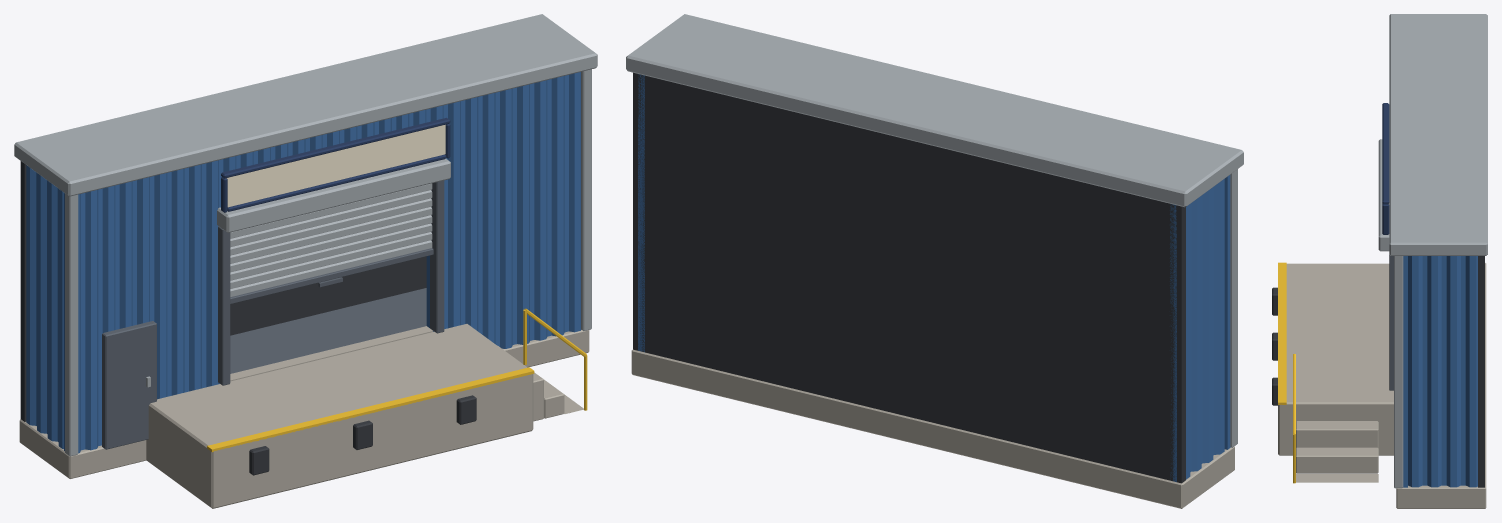
The model's file is warehouse.glb.
3 views of the same model, side by side, from view 1: azimuth 30°, elevation 25°; view 2: azimuth 150°, elevation 25°; view 3: azimuth 270°, elevation 25° (orthographic). The views are drawn at different scales.
Parts seen in each view (by area): view 1: warehouse; view 2: warehouse; view 3: warehouse.
Boxes of the visible parts, x1,y1,x2,y2 form: warehouse: [14, 14, 597, 508]; warehouse: [626, 14, 1243, 508]; warehouse: [1272, 14, 1487, 508].
Bounding box in the file's own units: 9.2 × 5 × 3.65.
